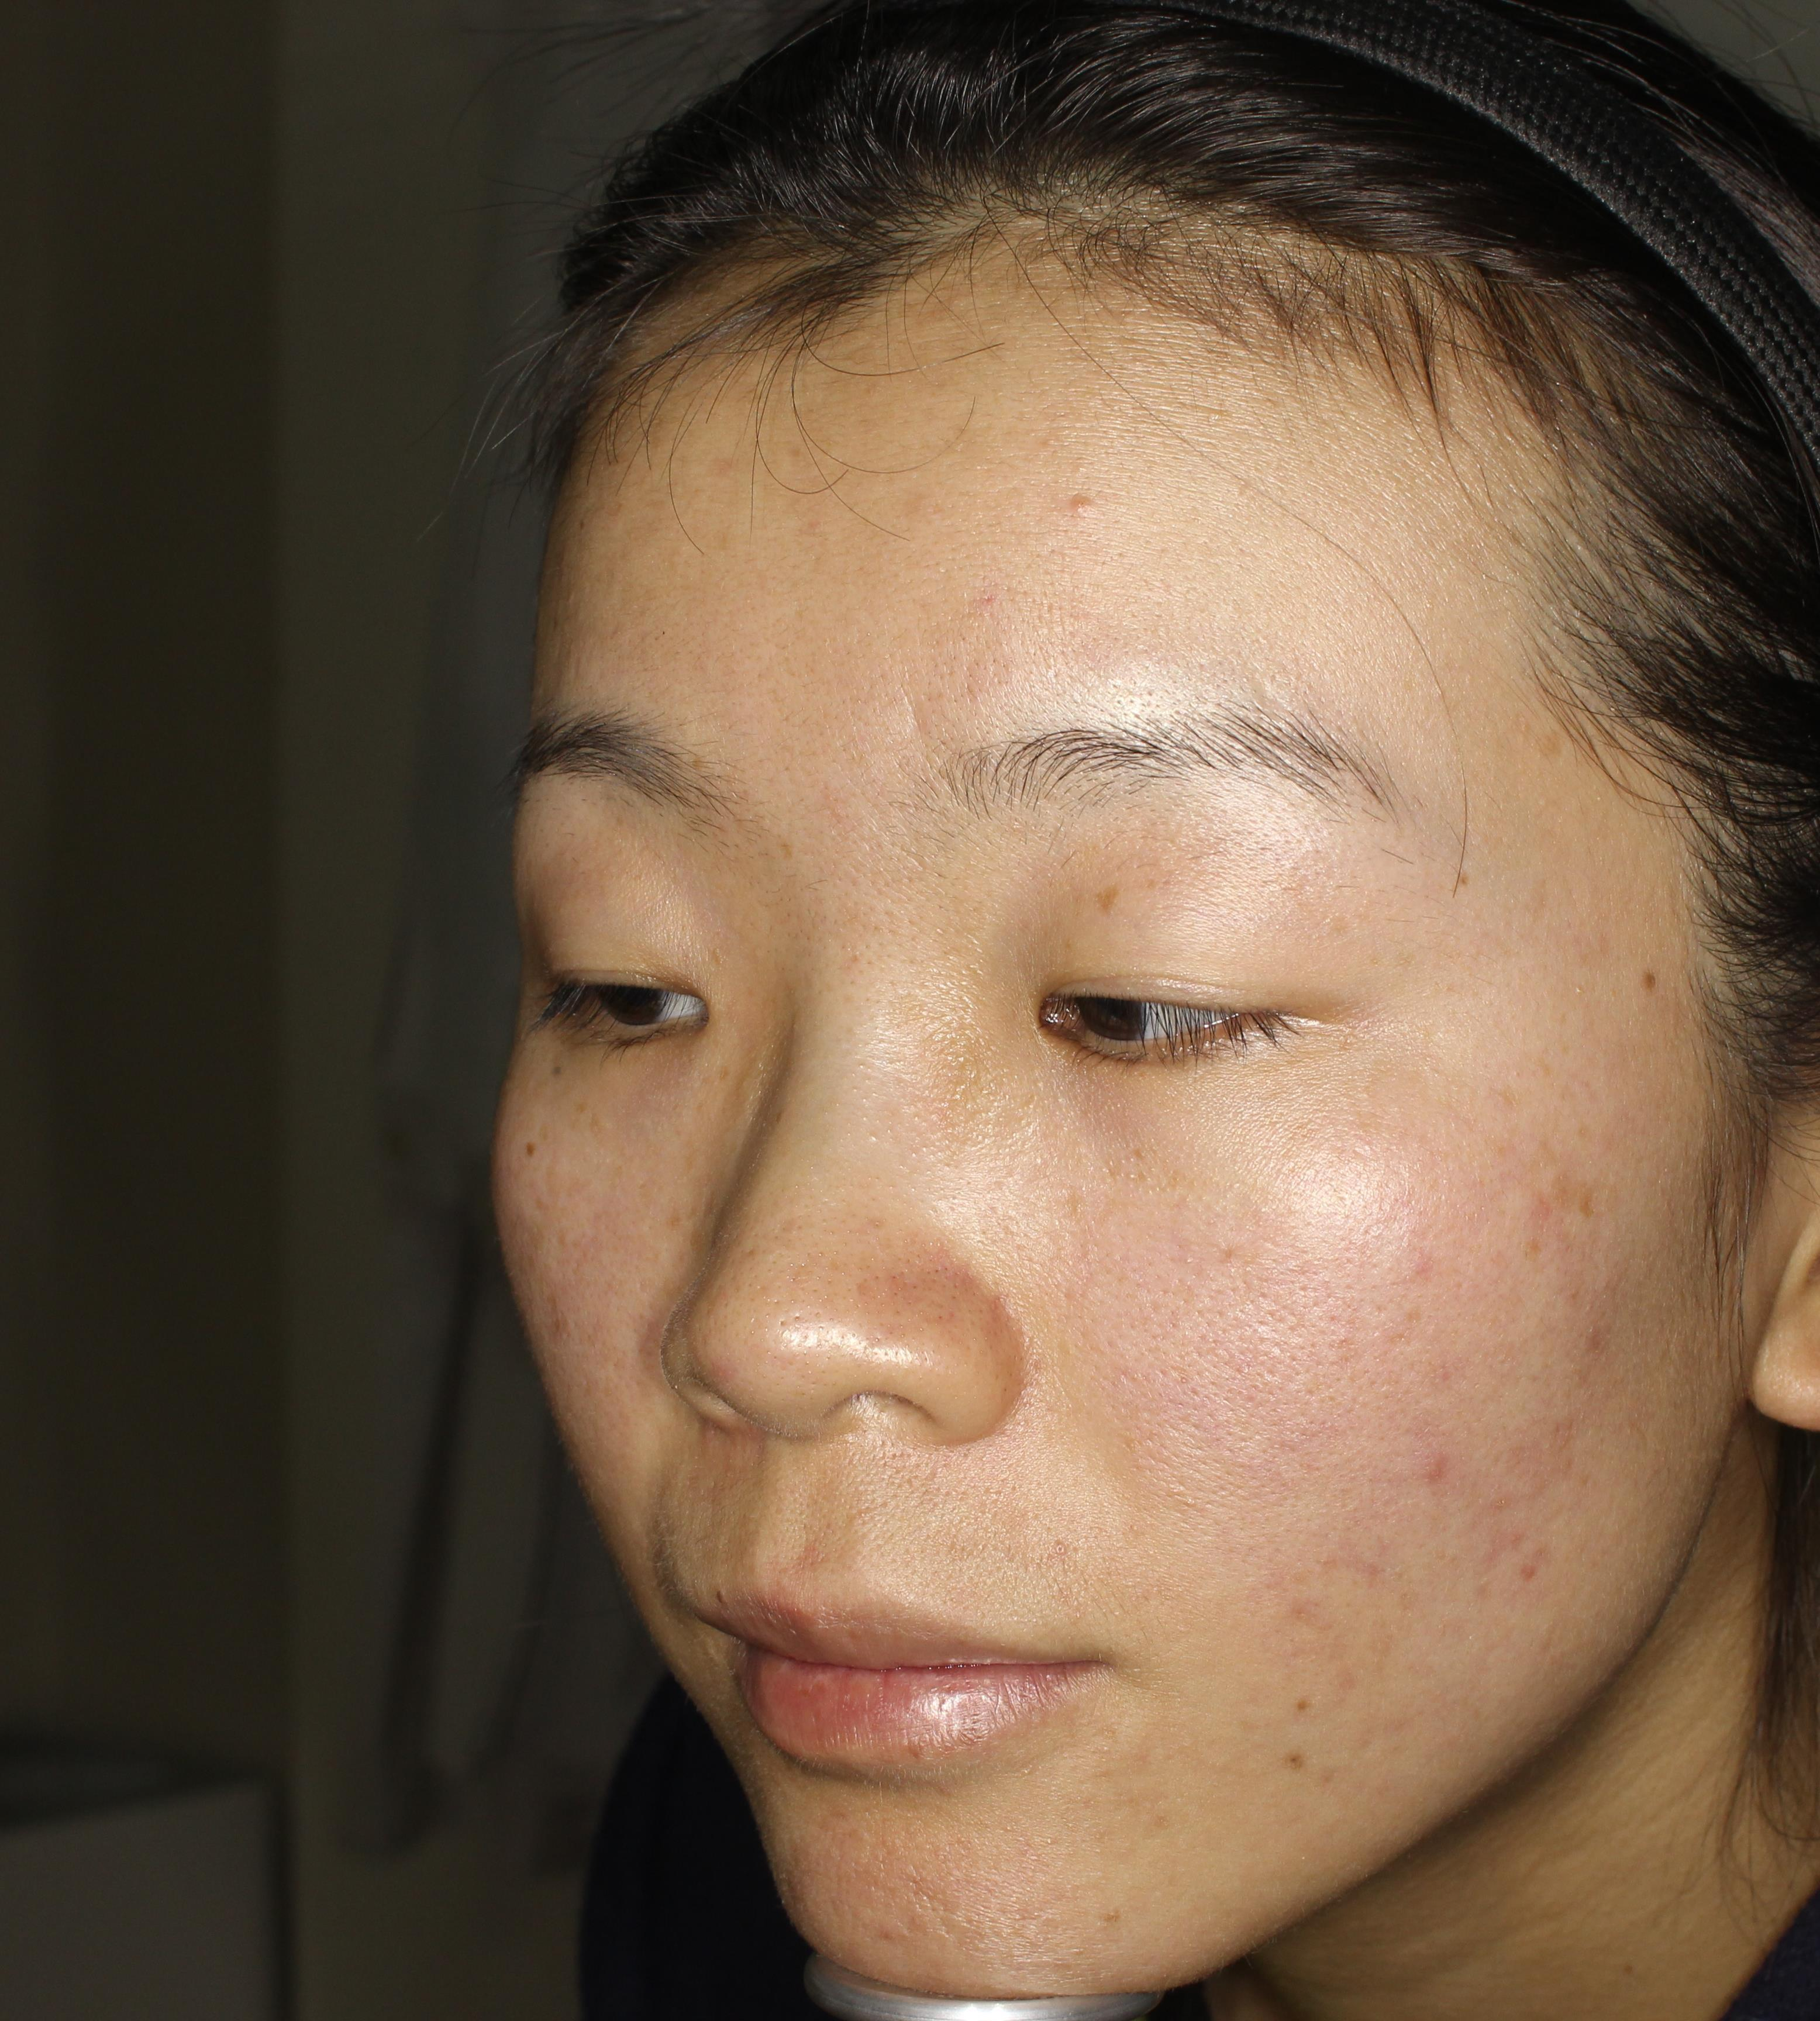fore: (1395, 1442, 1449, 1522)
